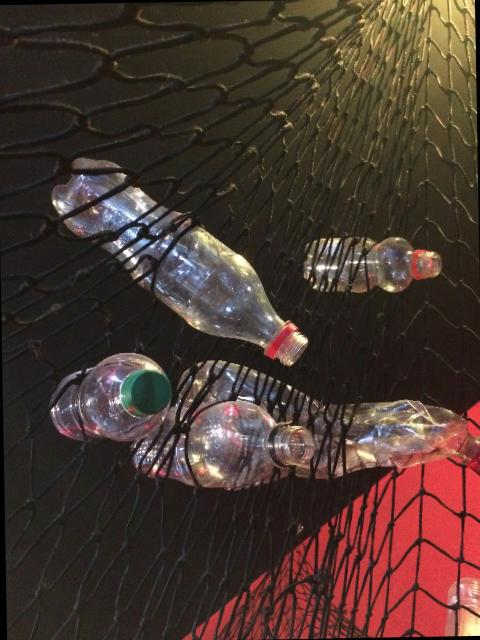plastic: (51, 157, 307, 364), (172, 398, 277, 489), (342, 399, 479, 467), (75, 352, 167, 441), (365, 236, 419, 292)
